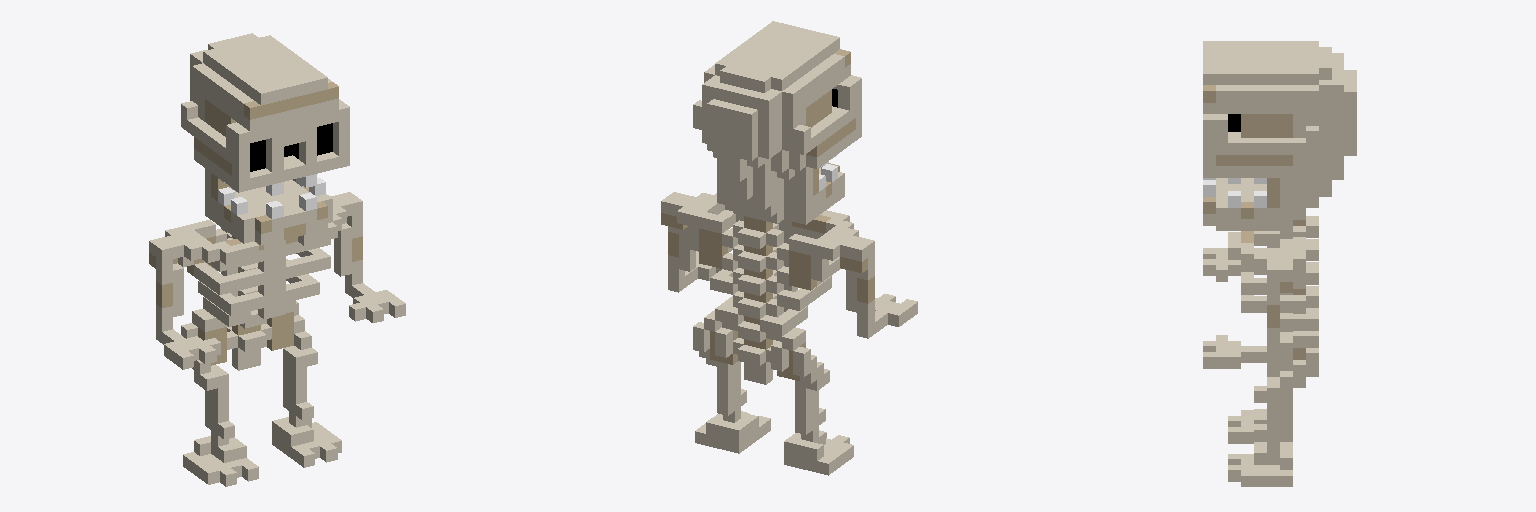
3 views of the same model, side by side, from view 1: azimuth 30°, elevation 25°; view 2: azimuth 150°, elevation 25°; view 3: azimuth 270°, elevation 25° (orthographic).
Visible parts, largest first — view 1: Model; view 2: Model; view 3: Model.
Part boxes in pixels (x1,y1,x2,y2): Model: (149,33,405,486); Model: (661,21,917,475); Model: (1203,41,1356,486).
Bounding box in the file's own units: 16 × 27.2 × 9.6.
1 materials, 1 textured.